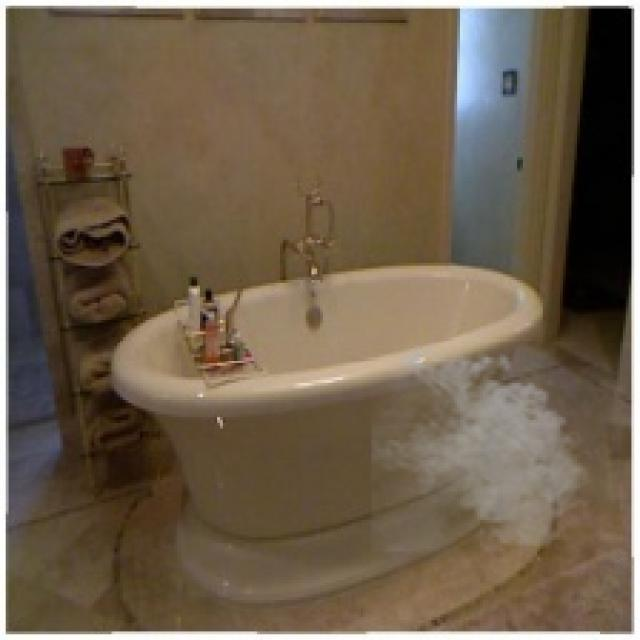Smoke: (372, 340, 597, 554)
